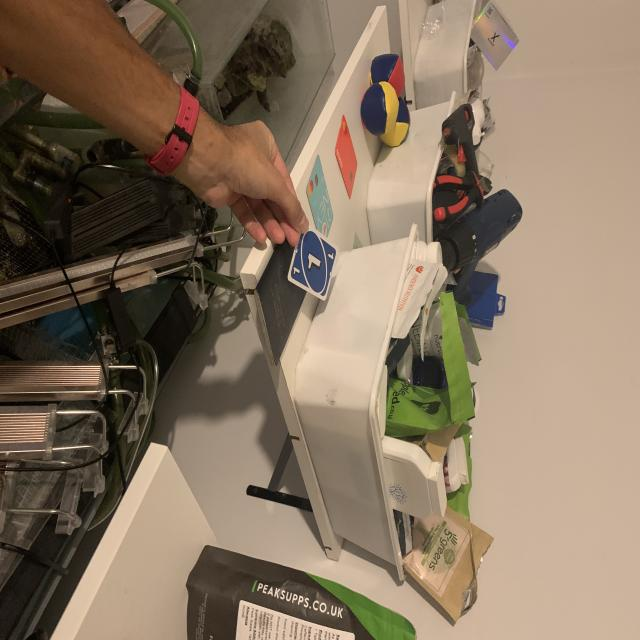lblue-1: (326, 248, 336, 262)
